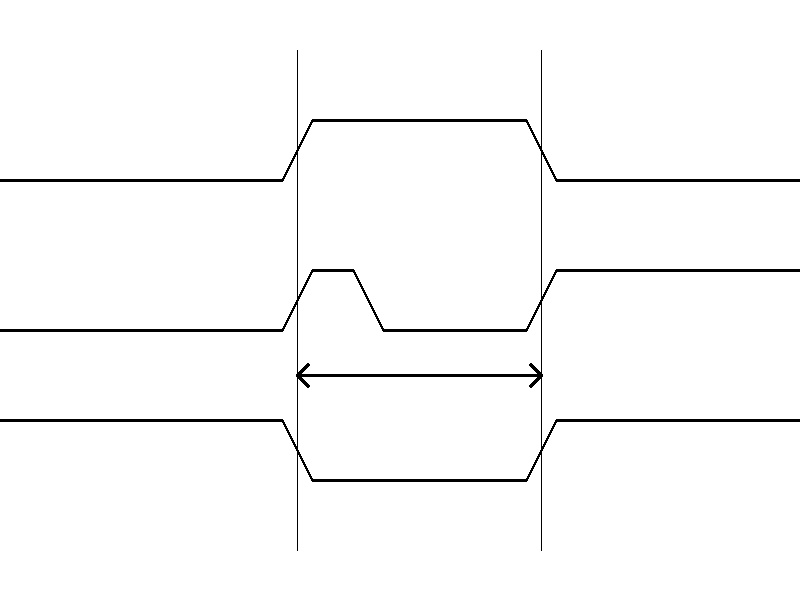double_arrow: (297, 360, 541, 390)
